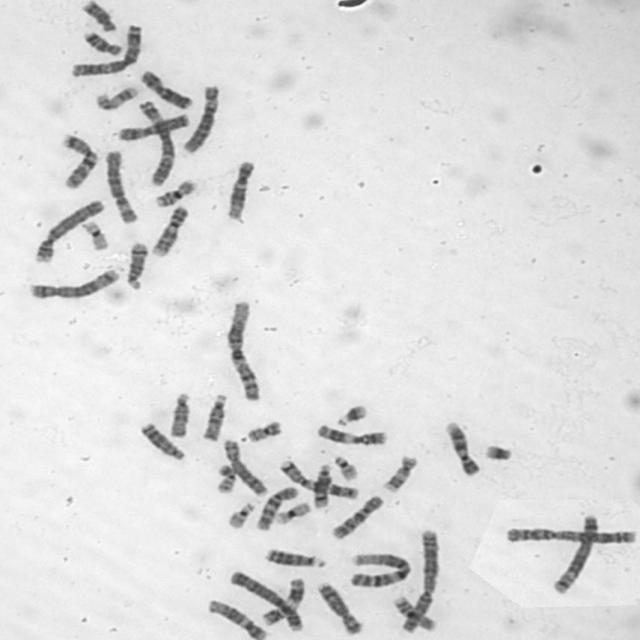A1: (210, 297, 262, 404), (346, 550, 412, 589)
A2: (399, 527, 441, 633), (501, 523, 638, 546)
A3: (68, 22, 145, 78), (134, 97, 177, 187)
B4: (226, 568, 306, 633), (32, 196, 106, 264)
B5: (549, 510, 598, 594), (26, 265, 122, 301)
C10: (328, 492, 385, 542), (253, 483, 299, 532)
C11: (259, 574, 306, 628), (312, 421, 389, 448)
C12: (204, 596, 269, 640), (222, 158, 258, 222)
C6: (180, 81, 222, 155), (102, 147, 141, 224)
C7: (276, 456, 360, 501), (57, 129, 99, 191)
C8: (220, 436, 268, 497), (314, 580, 364, 636)
C9: (149, 203, 191, 258), (443, 419, 481, 477)
D13: (138, 421, 187, 462), (262, 545, 326, 569)
D14: (122, 240, 149, 290), (309, 462, 334, 511)
D15: (199, 392, 229, 442), (165, 390, 192, 440)
E16: (392, 595, 438, 633), (152, 177, 198, 208)
E17: (380, 453, 419, 494), (93, 84, 139, 111)
E18: (80, 27, 124, 57), (80, 2, 120, 33)
F19: (272, 499, 313, 526), (79, 218, 110, 251)
F20: (244, 417, 284, 444), (212, 462, 238, 495)
G21: (332, 402, 370, 428), (480, 440, 516, 464)
G22: (224, 499, 256, 530), (331, 453, 360, 481)
X: (137, 68, 195, 110), (116, 110, 192, 142)
